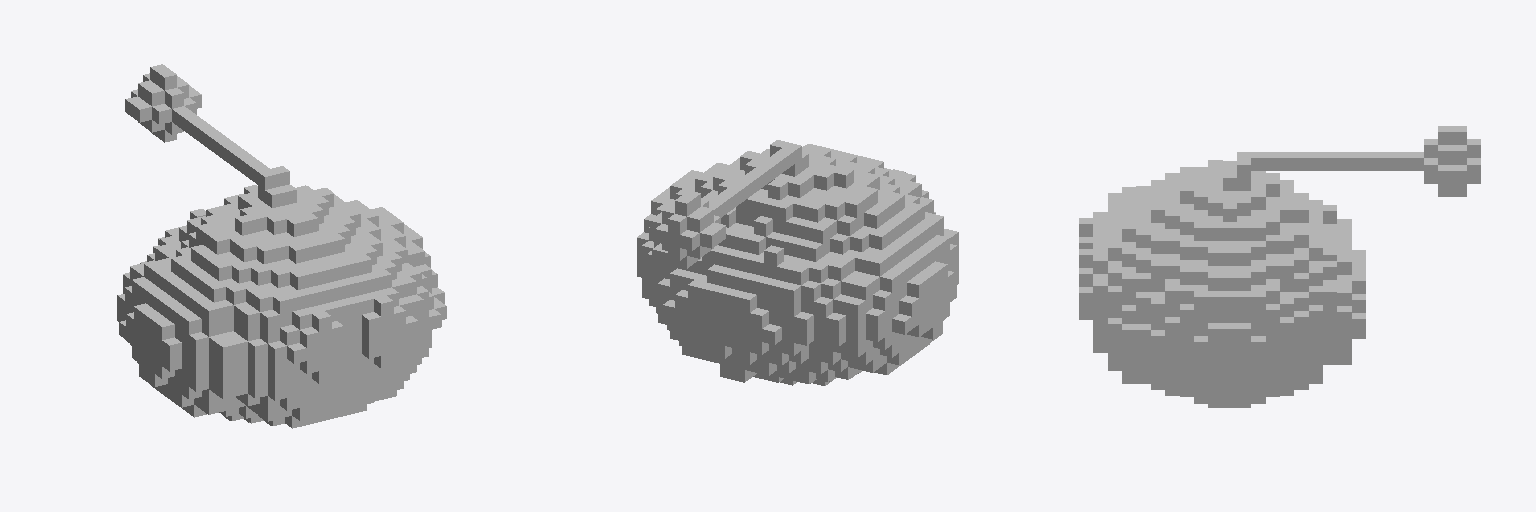
Rendered from Slime.obj.
3 views of the same model, side by side, from view 1: azimuth 30°, elevation 25°; view 2: azimuth 150°, elevation 25°; view 3: azimuth 270°, elevation 25° (orthographic).
Visible parts, largest first — view 1: object 1; view 2: object 1; view 3: object 1.
Part boxes in pixels (x1,y1,x2,y2): object 1: (117, 64, 446, 428); object 1: (637, 140, 958, 385); object 1: (1079, 126, 1480, 407).
Bounding box in the file's own units: 2.2 × 1.9 × 2.8.